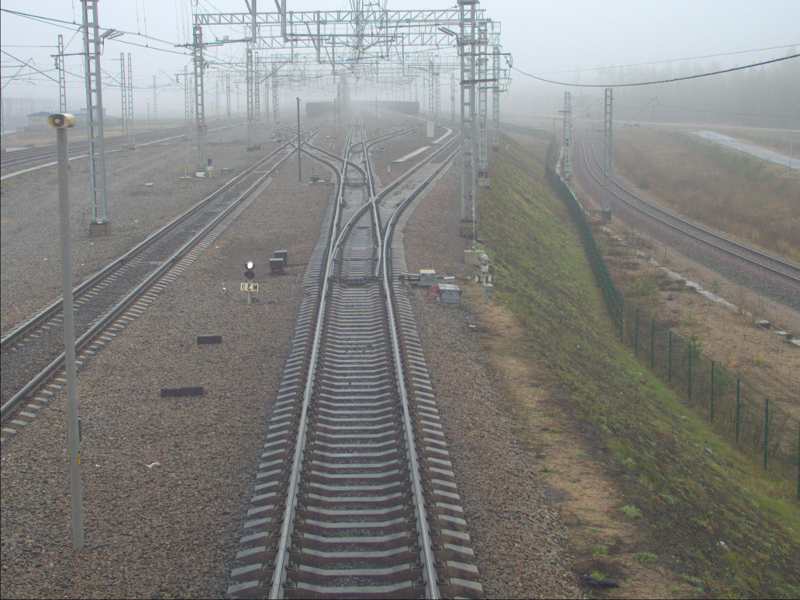right: (326, 244, 389, 280), (339, 168, 373, 186)
